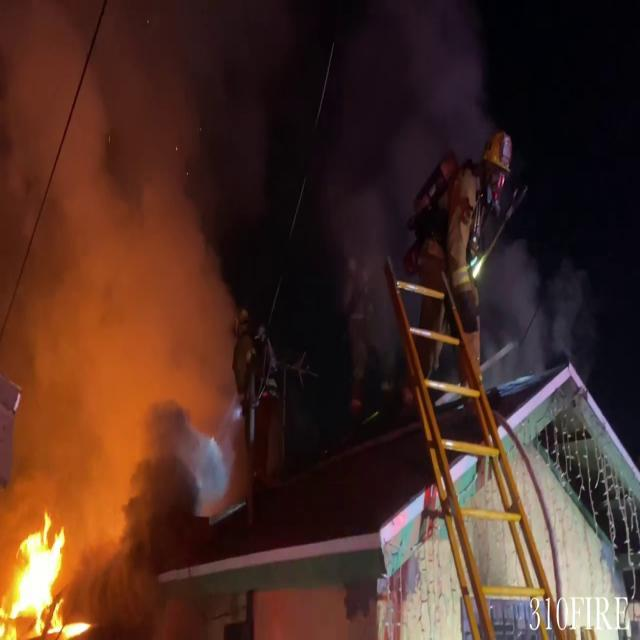Fire: (0, 510, 88, 638)
Smoke: (0, 2, 246, 538), (178, 4, 474, 348)
